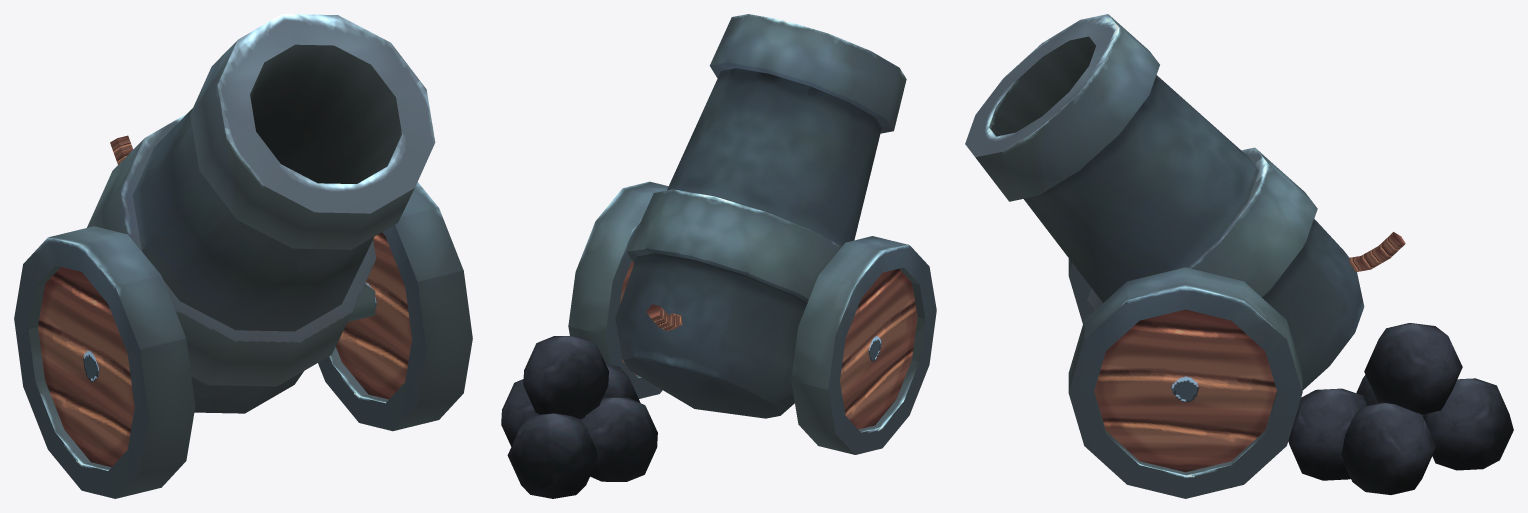
The model's file is cannon.gltf.
The picture shows the model from 3 angles, left to right: view 1: azimuth 30°, elevation 25°; view 2: azimuth 150°, elevation 25°; view 3: azimuth 270°, elevation 25°; orthographic projection. The views are drawn at different scales.
Visible parts, largest first — view 1: Cannon; view 2: Cannon; view 3: Cannon.
Part boxes in pixels (x1,y1,x2,y2): Cannon: (14, 14, 472, 498); Cannon: (501, 14, 936, 498); Cannon: (965, 14, 1513, 498).
Size of what is drawn, in the model's own units: 1.42 by 1.79 by 2.19.
1 material, 1 textured.
